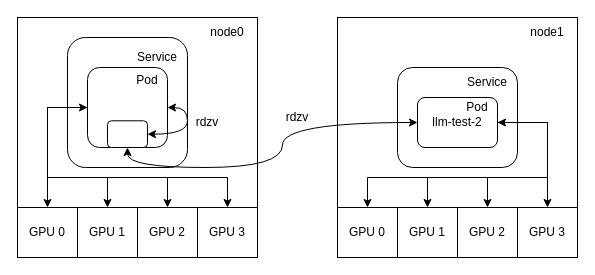
This 595x275 diagram has some shape labels left out. The box of each missing label's shape, as (x1, y1, x2, y2) in pixels:
c10d: (106, 120, 148, 148)
llm-test: (86, 66, 168, 148)
